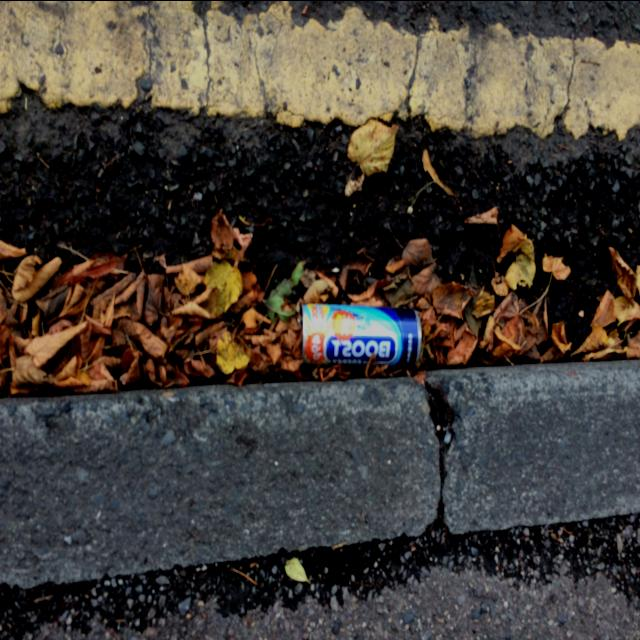Drink can: (297, 302, 422, 369)
